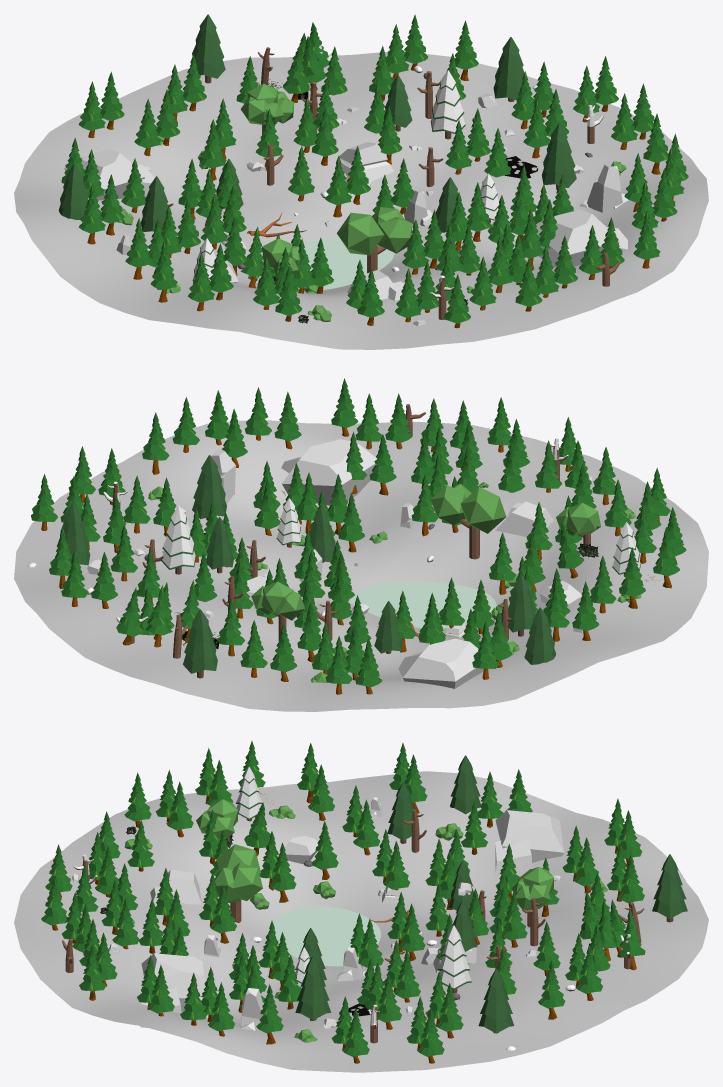
Rendered from mapav2.fbx.
3 views of the same model, one above another, from view 1: azimuth 30°, elevation 25°; view 2: azimuth 150°, elevation 25°; view 3: azimuth 270°, elevation 25° (orthographic).
Parts seen in each view (by area): view 1: Ground, Circle.006, Cube.017, Water, Cube.009, Circle.003, Circle.010, Circle.011, Circle.022, Circle.015, Cube.013, Cube.022 (+94 smaller); view 2: Ground, Cube.017, Water, Cube.009, Circle.006, Circle.022, Circle.010, Circle.003, Circle.011, Circle.021, Circle, Circle.007 (+81 smaller); view 3: Ground, Water, Cube.009, Circle.006, Cube.017, Circle.022, Circle.011, Circle.015, Circle.010, Circle.003, Circle.021, Circle (+81 smaller).
Part boxes in pixels (x1,y1,x2,y2): Ground: [14, 52, 708, 349]; Circle.006: [336, 207, 412, 273]; Cube.017: [536, 209, 627, 267]; Water: [297, 237, 394, 289]; Cube.009: [64, 149, 154, 200]; Circle.003: [240, 83, 294, 135]; Circle.010: [430, 70, 465, 139]; Circle.011: [542, 123, 576, 190]; Circle.022: [192, 14, 225, 83]; Circle.015: [493, 37, 524, 101]; Cube.013: [579, 164, 628, 213]; Cube.022: [339, 142, 393, 194]; Ground: [14, 420, 708, 711]; Cube.017: [281, 439, 376, 505]; Water: [350, 581, 496, 628]; Cube.009: [398, 638, 483, 688]; Circle.006: [430, 483, 506, 559]; Circle.022: [183, 609, 217, 678]; Circle.010: [161, 505, 195, 574]; Circle.003: [251, 581, 304, 639]; Circle.011: [192, 455, 226, 520]; Circle.021: [524, 607, 555, 664]; Circle: [507, 574, 535, 636]; Circle.007: [556, 502, 600, 544]; Ground: [14, 771, 708, 1072]; Water: [273, 906, 380, 966]; Cube.009: [495, 810, 564, 876]; Circle.006: [215, 844, 262, 922]; Cube.017: [140, 953, 216, 1027]; Circle.022: [652, 854, 687, 922]; Circle.011: [295, 955, 330, 1020]; Circle.015: [478, 969, 514, 1033]; Circle.010: [436, 925, 471, 993]; Circle.003: [512, 867, 553, 927]; Circle.021: [450, 755, 480, 814]; Circle: [387, 782, 419, 843].
Size of the model in its own units: 3563 by 664 by 3591.
